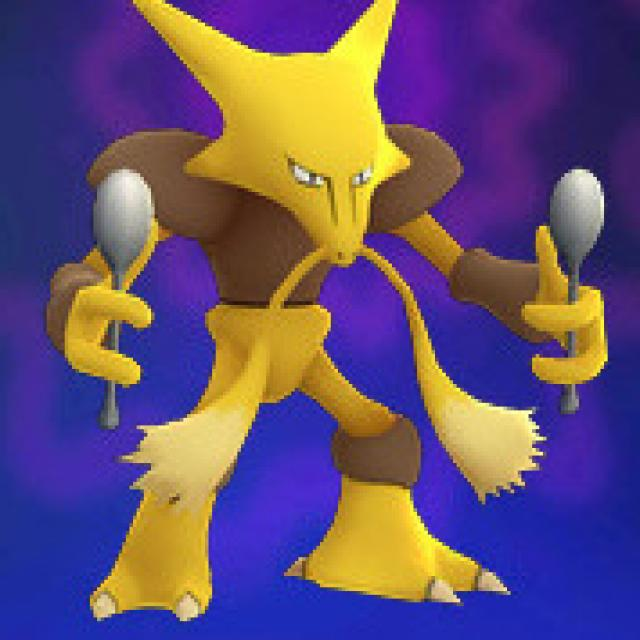Alakazam: (83, 0, 469, 604)
